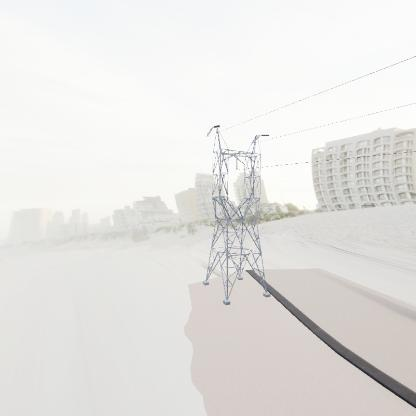tower: (201, 120, 275, 316)
